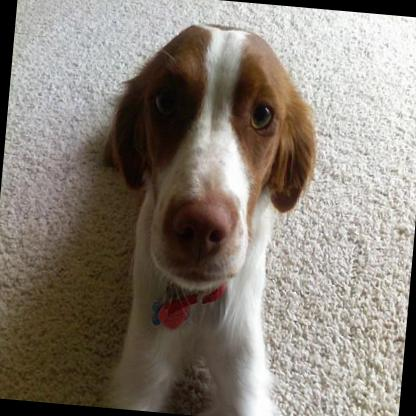Brittany_spaniel: (83, 13, 326, 416)
